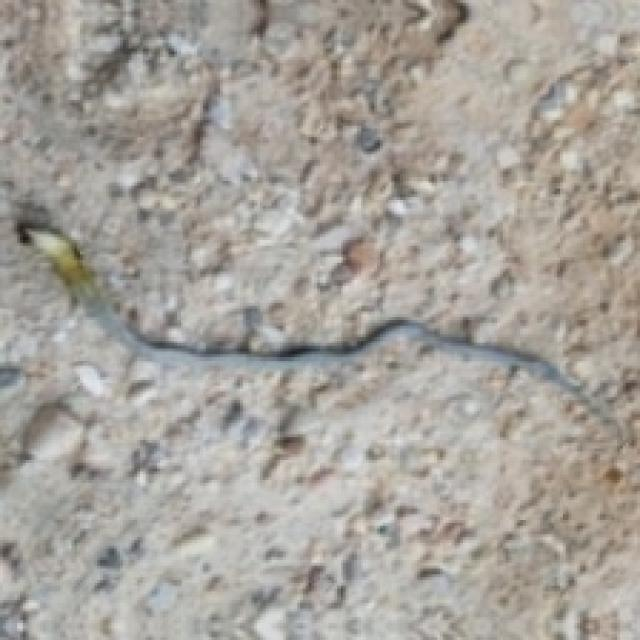king cobra: (17, 223, 597, 414), (374, 360, 431, 414)
